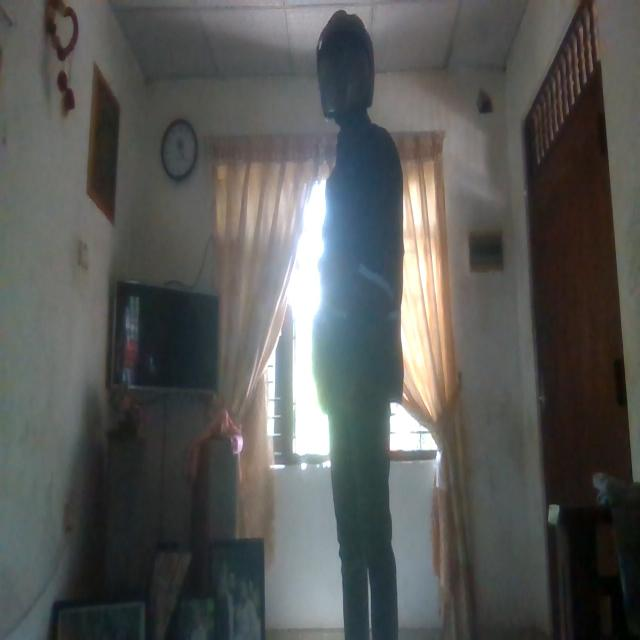Helmet_Wearer: (316, 2, 376, 130)
Jacket_Wearer: (311, 118, 415, 422)
Person: (305, 15, 415, 640)
